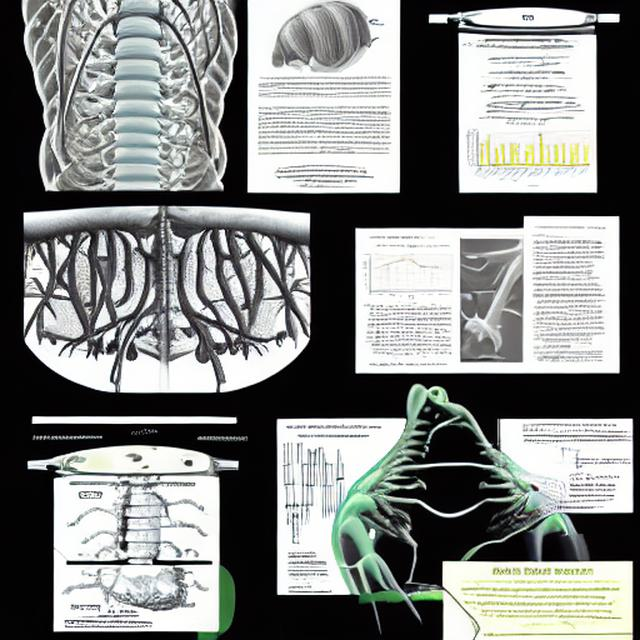Graph: (462, 112, 592, 191), (357, 242, 455, 299)
